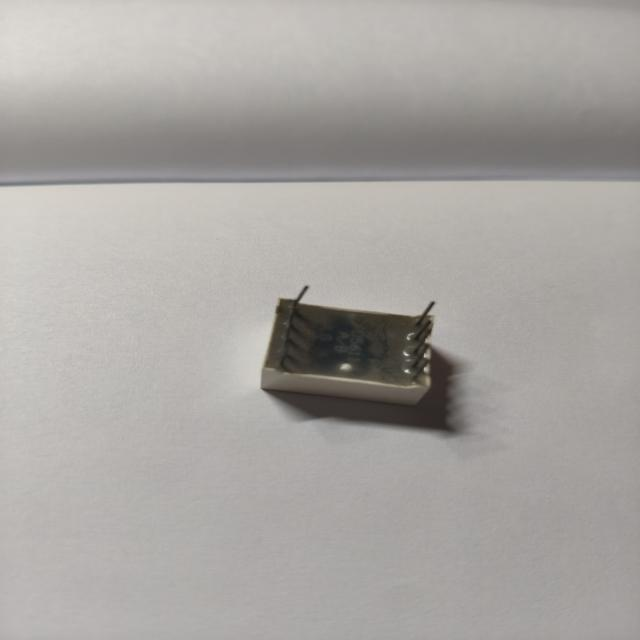sevensegment: (229, 270, 518, 426)
